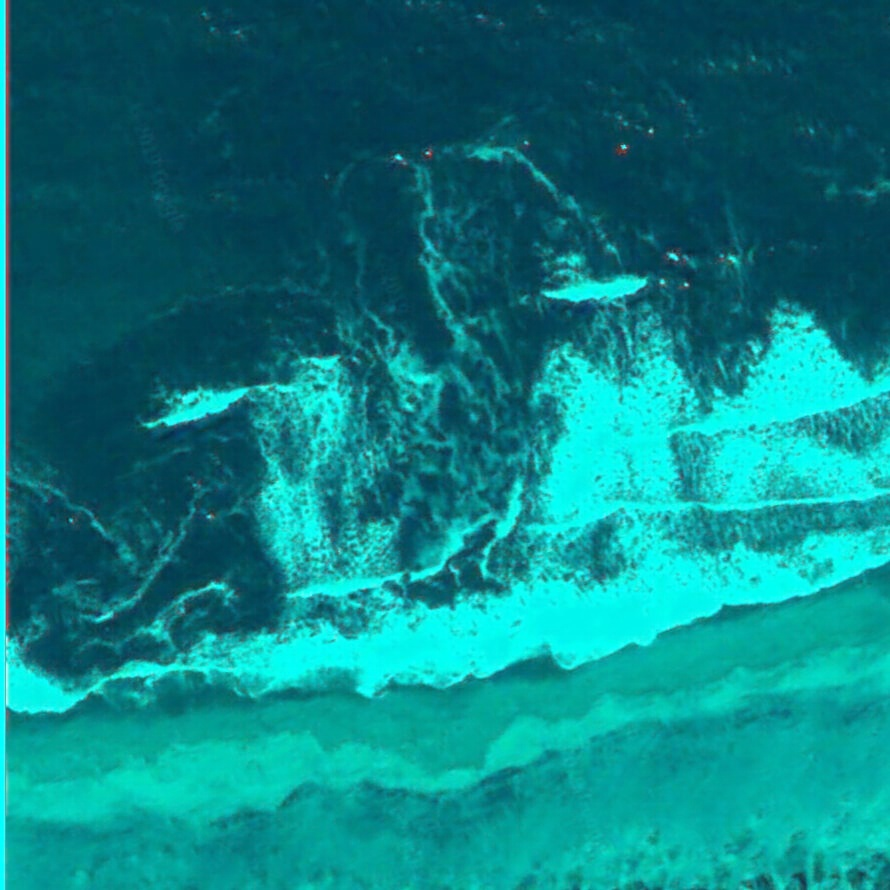rip_current: (295, 162, 618, 567)
